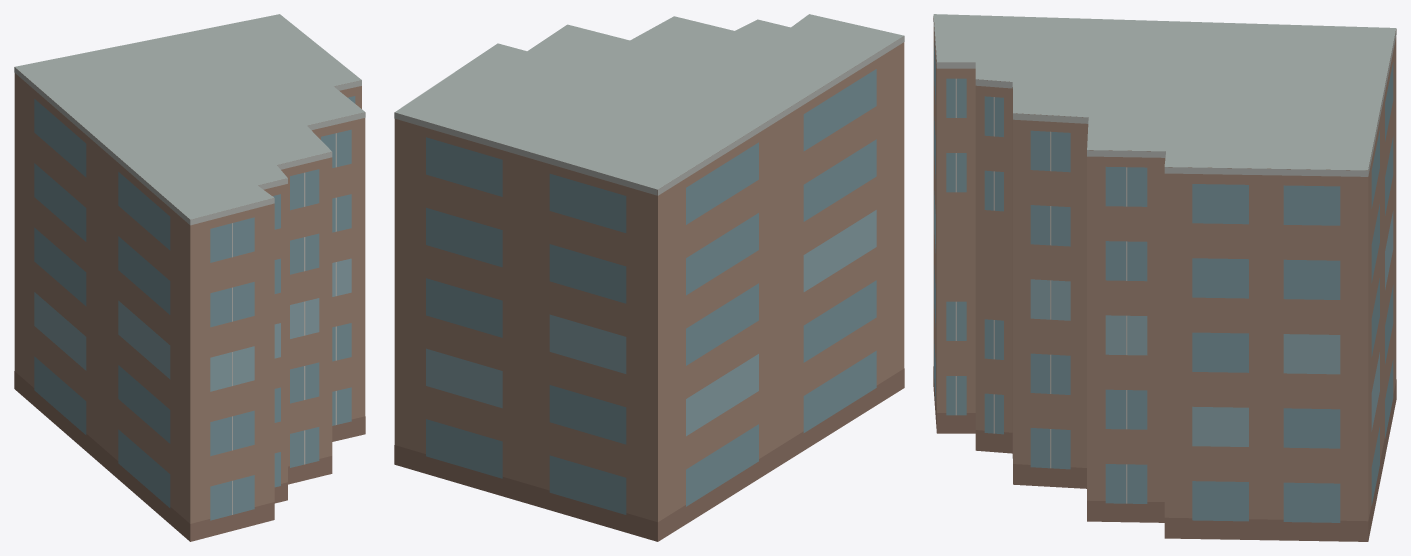
The model's file is survey-upis-32767878.glb.
The picture shows the model from 3 angles, left to right: view 1: azimuth 30°, elevation 25°; view 2: azimuth 150°, elevation 25°; view 3: azimuth 270°, elevation 25°; orthographic projection. The views are drawn at different scales.
Parts seen in each view (by area): view 1: survey-upis-32767878.tmp; view 2: survey-upis-32767878.tmp; view 3: survey-upis-32767878.tmp.
Part boxes in pixels (bbox=[...]): survey-upis-32767878.tmp: bbox=[14, 14, 365, 541]; survey-upis-32767878.tmp: bbox=[394, 14, 904, 541]; survey-upis-32767878.tmp: bbox=[933, 14, 1396, 541].
Size of the model in its own units: 12.56 by 13.9 by 15.71.
